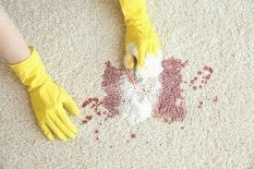wine: (78, 66, 127, 131), (157, 54, 190, 124), (188, 63, 215, 91), (193, 94, 220, 109), (122, 130, 142, 144)
